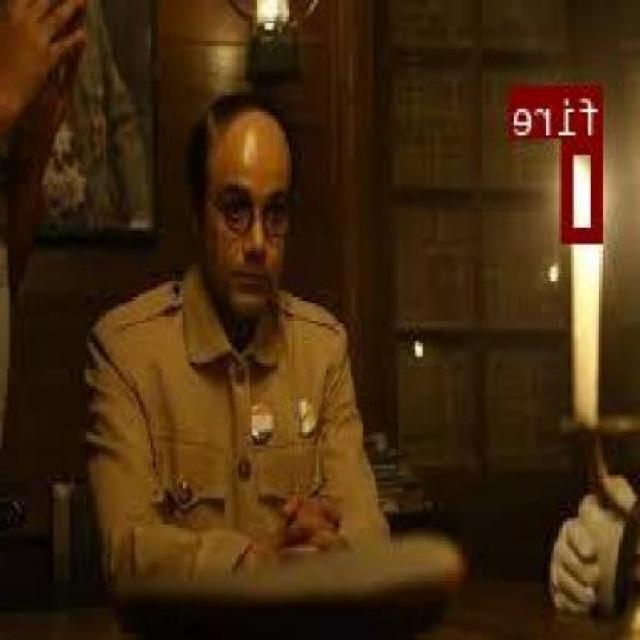fire: (566, 135, 605, 240)
